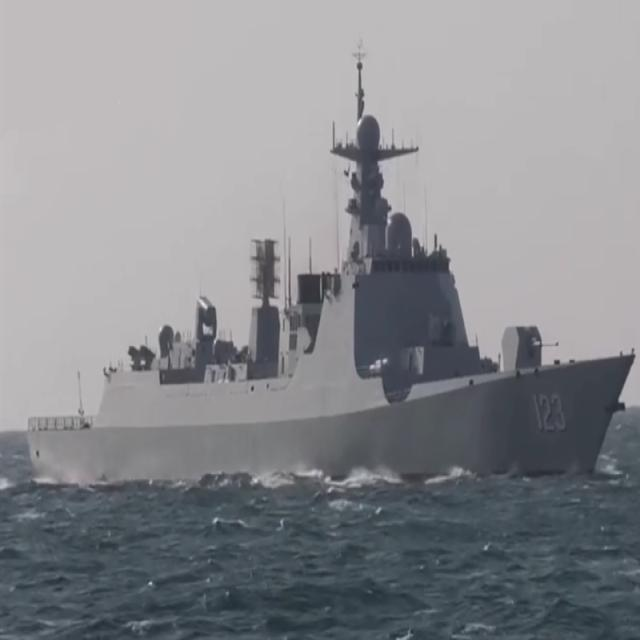navalvessels: (12, 50, 630, 492)
